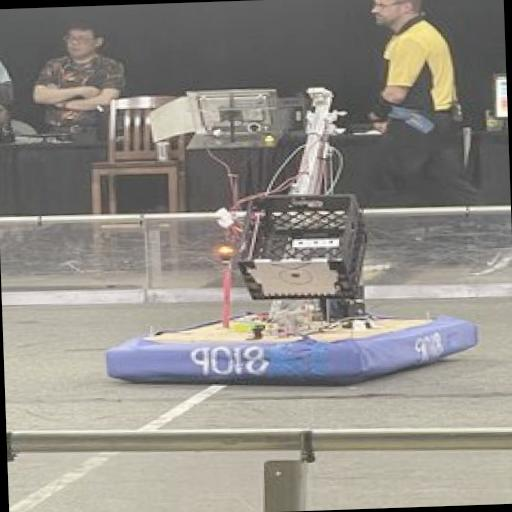robot: (90, 74, 484, 398)
